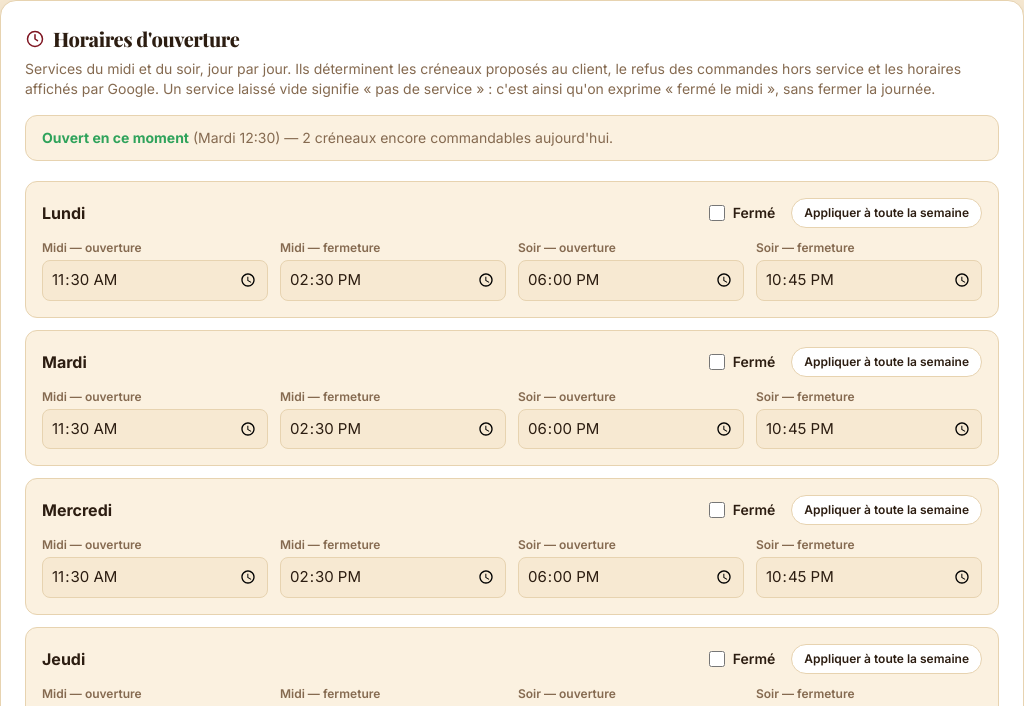
Test: un service à moitié rempli › est refusé : une ouverture sans fermeture n'ouvre rien du tout
Expected: the text "Lundi" is shown, [42,201,85,225]
Clear the time field labelled "Midi — fermeture" below "Lundi" at point(393, 280), box [280,260,506,300]
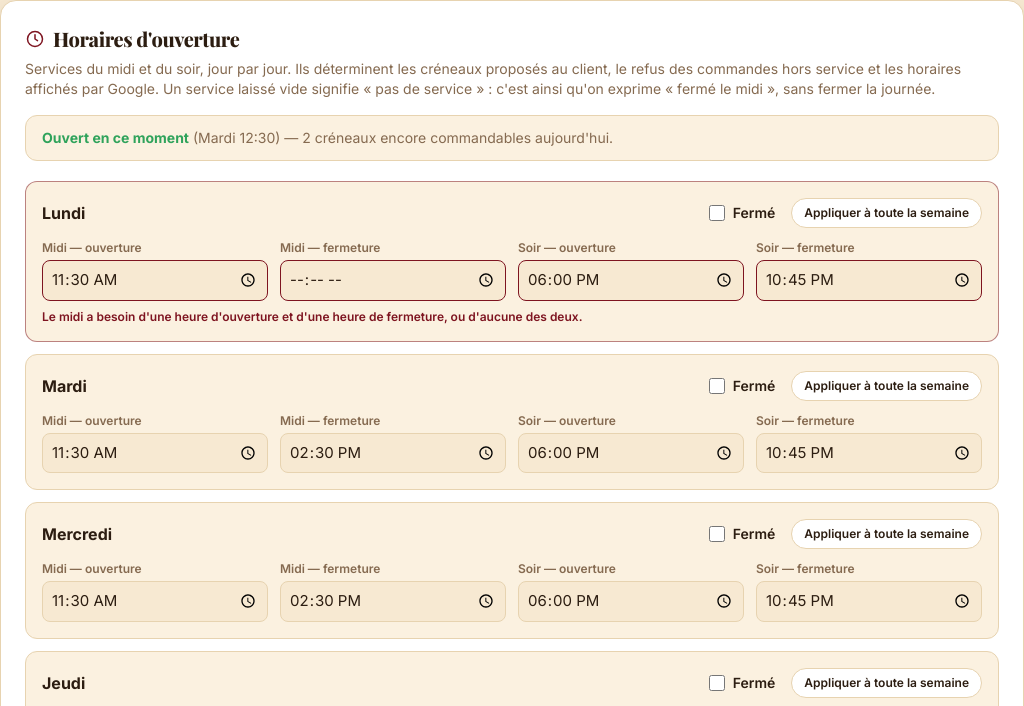
Now the text "Le midi a besoin d'une heure d'ouverture et d'une heure de fermeture, ou d'aucune des deux." is shown, box [42,308,582,324]
